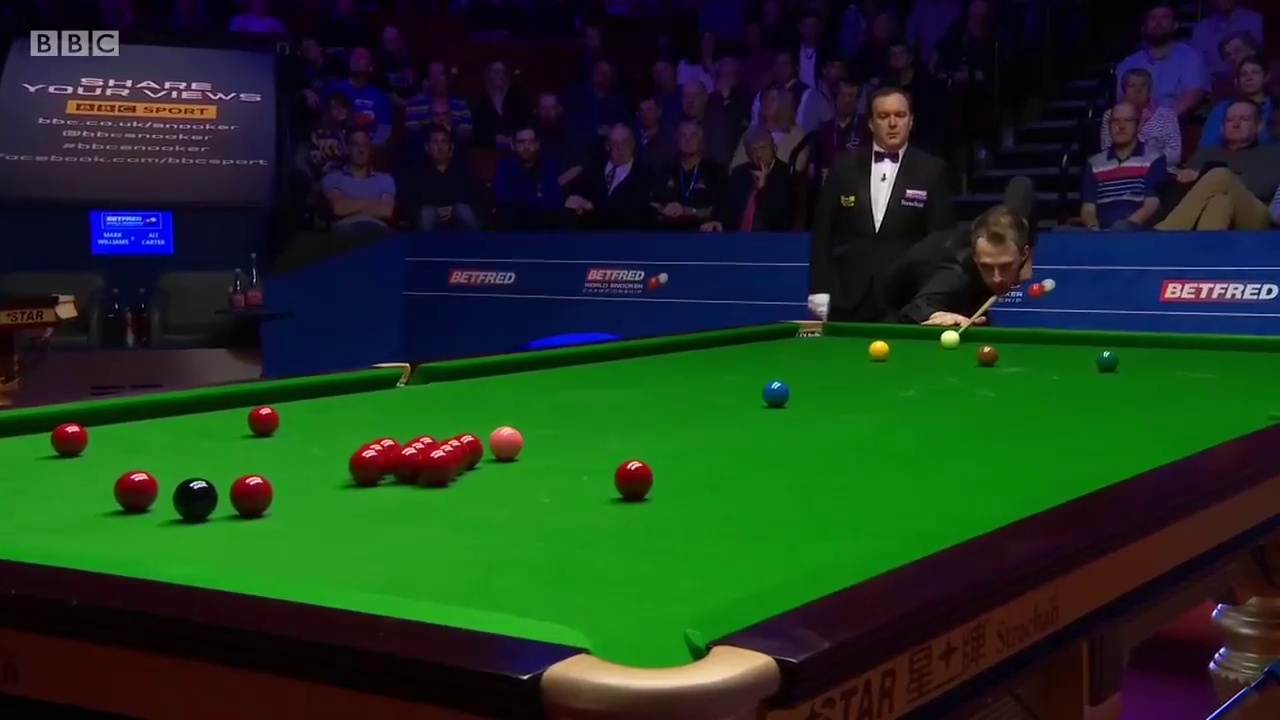black: (175, 480, 217, 525)
blue: (762, 379, 786, 407)
brown: (976, 345, 999, 366)
green: (1096, 351, 1120, 371)
pink: (486, 427, 523, 460)
red: (231, 474, 272, 519), (116, 471, 158, 513), (615, 461, 654, 501), (350, 447, 387, 488), (48, 422, 88, 454), (420, 453, 451, 484), (247, 405, 278, 435)
white: (939, 327, 961, 348)
yellow: (867, 340, 890, 361)
